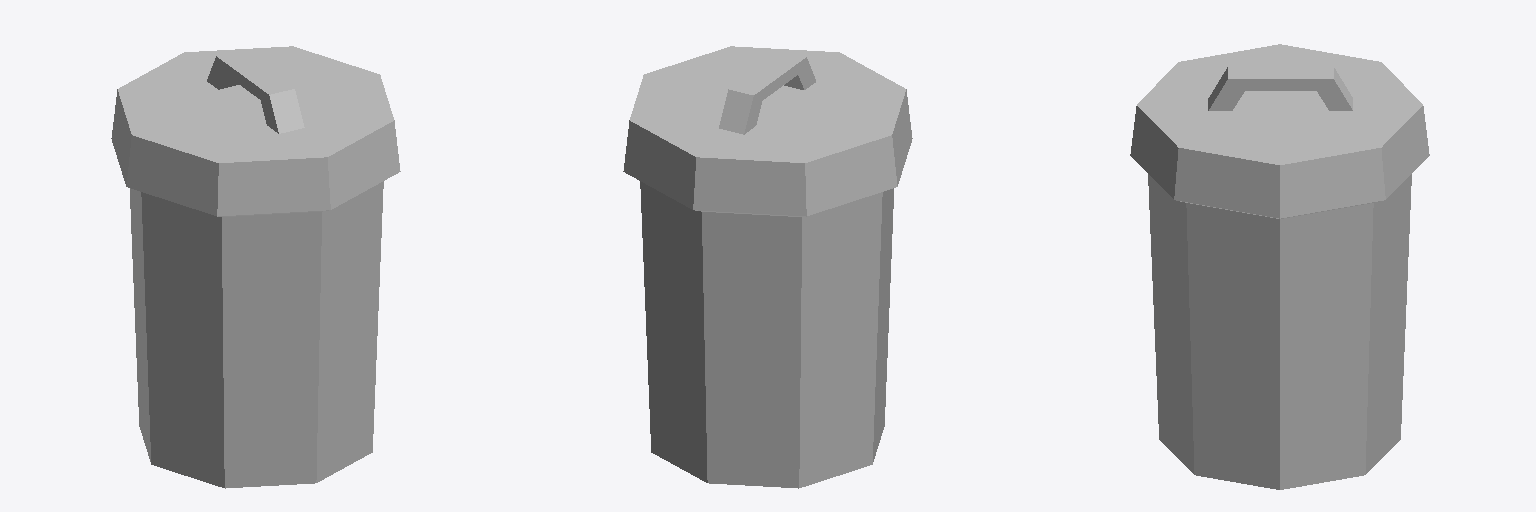
3 views of the same model, side by side, from view 1: azimuth 30°, elevation 25°; view 2: azimuth 150°, elevation 25°; view 3: azimuth 270°, elevation 25° (orthographic).
Visible parts, largest first — view 1: Regroup01; view 2: Regroup01; view 3: Regroup01.
Boxes of the visible parts, <box> form: Regroup01: <box>111,46,400,488</box>; Regroup01: <box>623,46,912,488</box>; Regroup01: <box>1130,44,1429,489</box>.
Bounding box in the file's own units: 2.25 × 3.04 × 2.25.